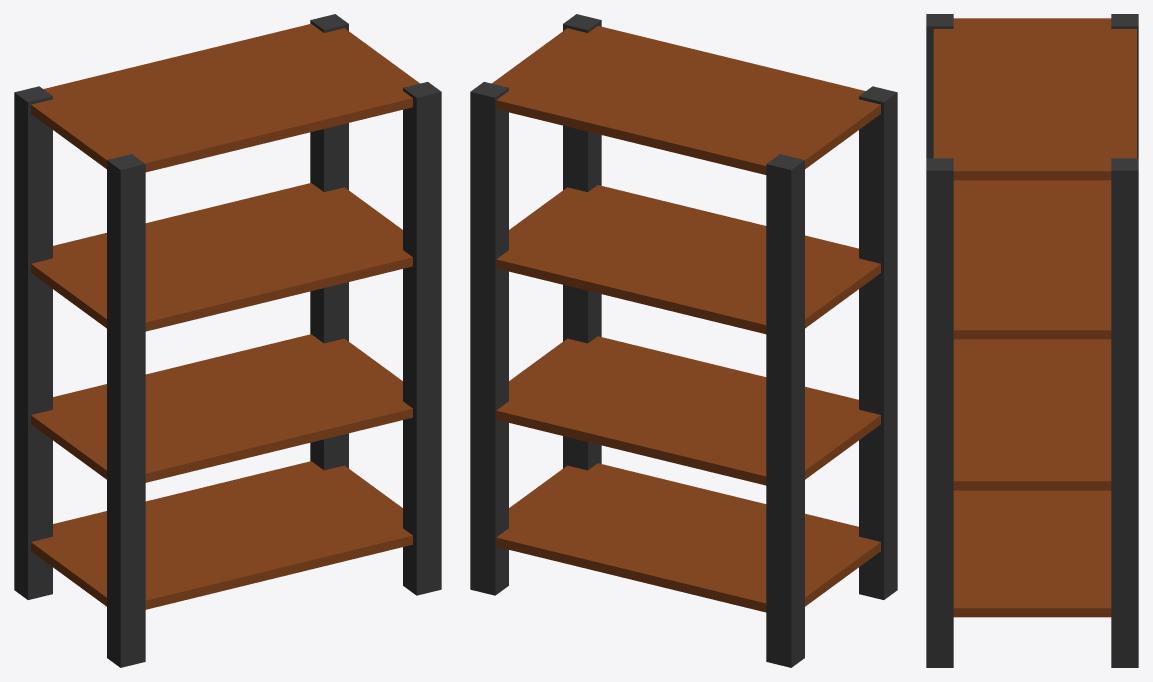
Rendered from Estente madera.FBX.
3 views of the same model, side by side, from view 1: azimuth 30°, elevation 25°; view 2: azimuth 150°, elevation 25°; view 3: azimuth 270°, elevation 25° (orthographic).
Visible parts, largest first — view 1: G_Estanería madera; view 2: G_Estanería madera; view 3: G_Estanería madera.
Boxes of the visible parts, x1,y1,x2,y2 form: G_Estanería madera: (14,14,441,667); G_Estanería madera: (470,14,897,667); G_Estanería madera: (926,14,1138,667).
Size of the model in its own units: 7.29 by 10.8 by 4.18.
